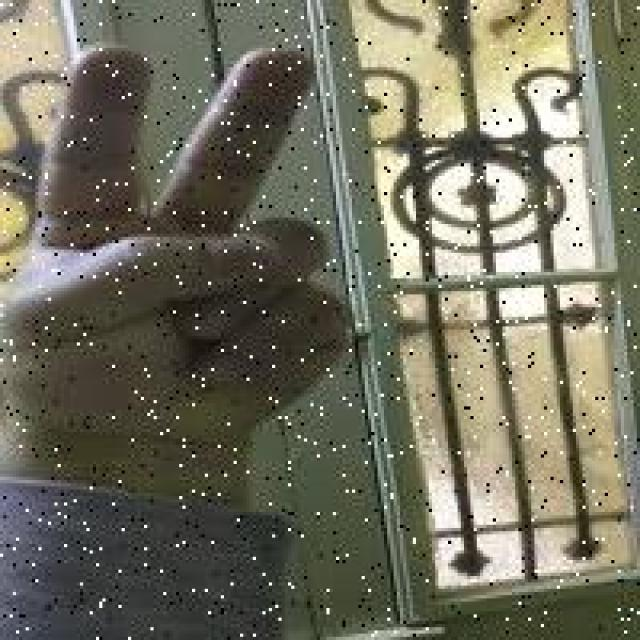V: (10, 40, 355, 456)
